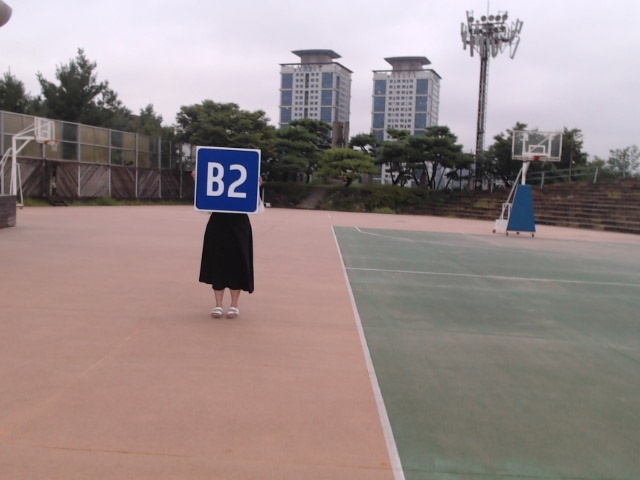delivery_b2: (193, 148, 261, 212)
